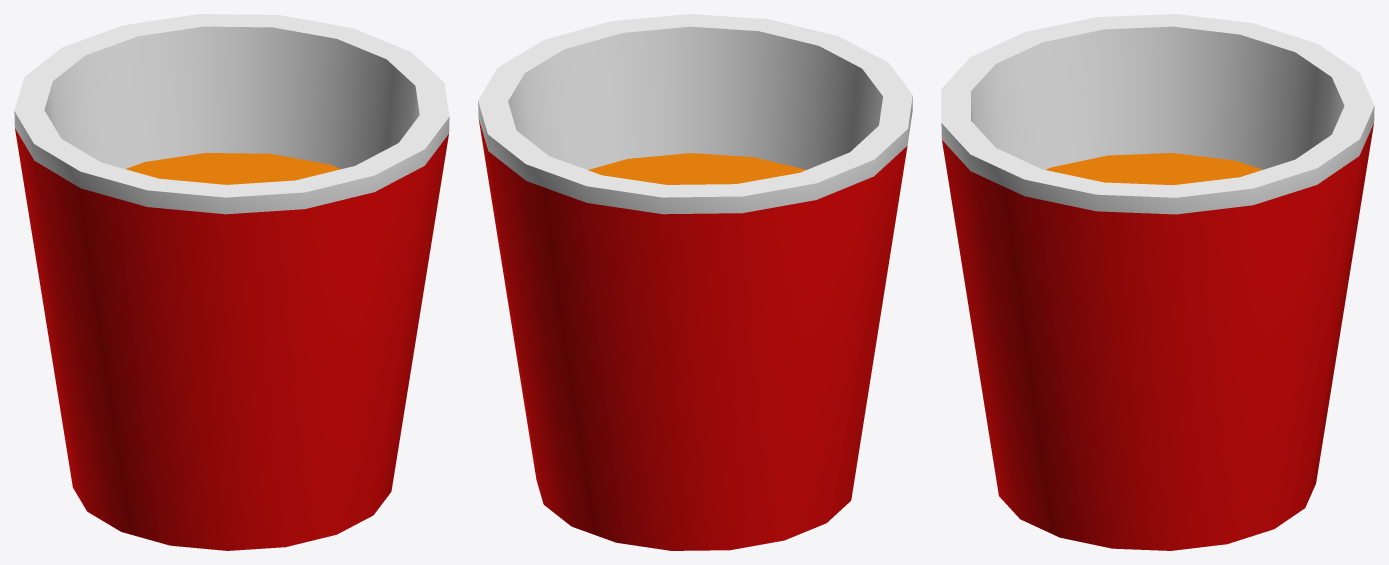
File: cup.fbx
3 views of the same model, side by side, from view 1: azimuth 30°, elevation 25°; view 2: azimuth 150°, elevation 25°; view 3: azimuth 270°, elevation 25° (orthographic).
Visible parts, largest first — view 1: Cylinder; view 2: Cylinder; view 3: Cylinder.
Part boxes in pixels (x1,y1,x2,y2): Cylinder: (14, 14, 449, 550); Cylinder: (478, 14, 912, 550); Cylinder: (941, 14, 1374, 550).
Bounding box in the file's own units: 21.71 × 20.8 × 21.62.
